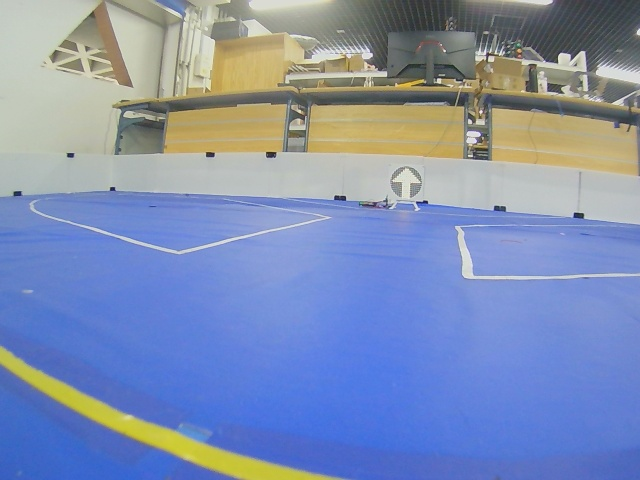straight_yellow: (391, 167, 422, 199)
